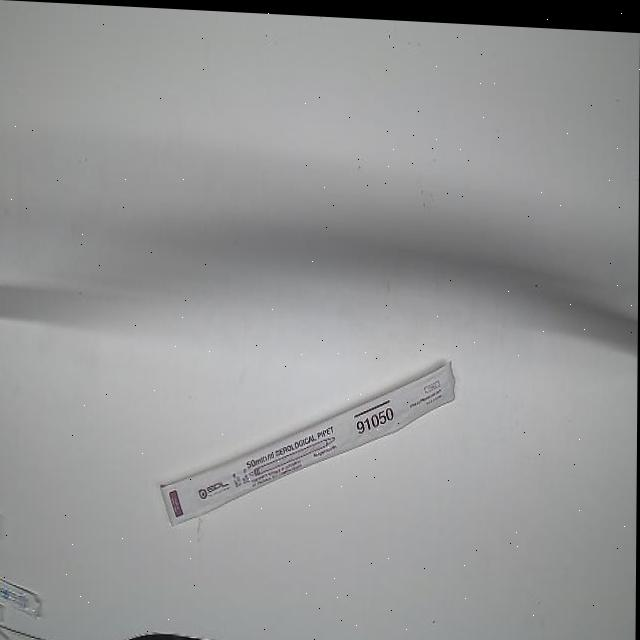Serelogical Pipet 50 mL - Sealed: (156, 338, 459, 536)
